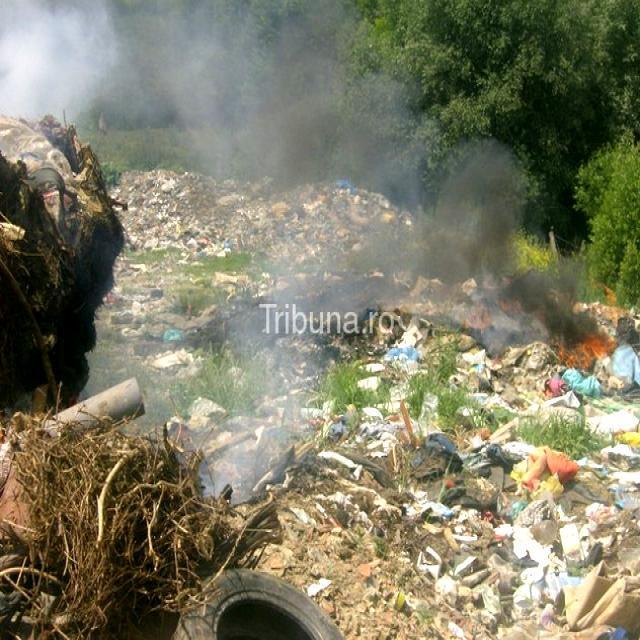Smoke: (115, 6, 570, 444)
